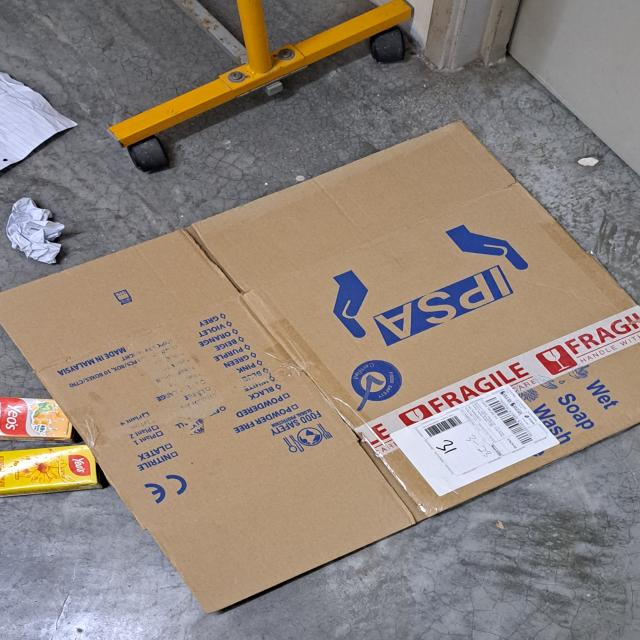cardboard: (0, 120, 640, 612)
drink carton: (0, 444, 100, 498), (0, 395, 72, 440)
paper: (0, 72, 80, 176), (6, 197, 68, 265)
